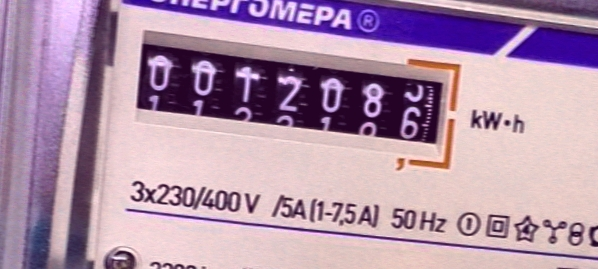0: (186, 56, 218, 100), (144, 50, 171, 94), (316, 75, 343, 116)
1: (231, 62, 256, 105)
2: (273, 73, 302, 114)
6: (393, 103, 420, 141)
8: (358, 79, 383, 121)
screen: (121, 17, 471, 184)
